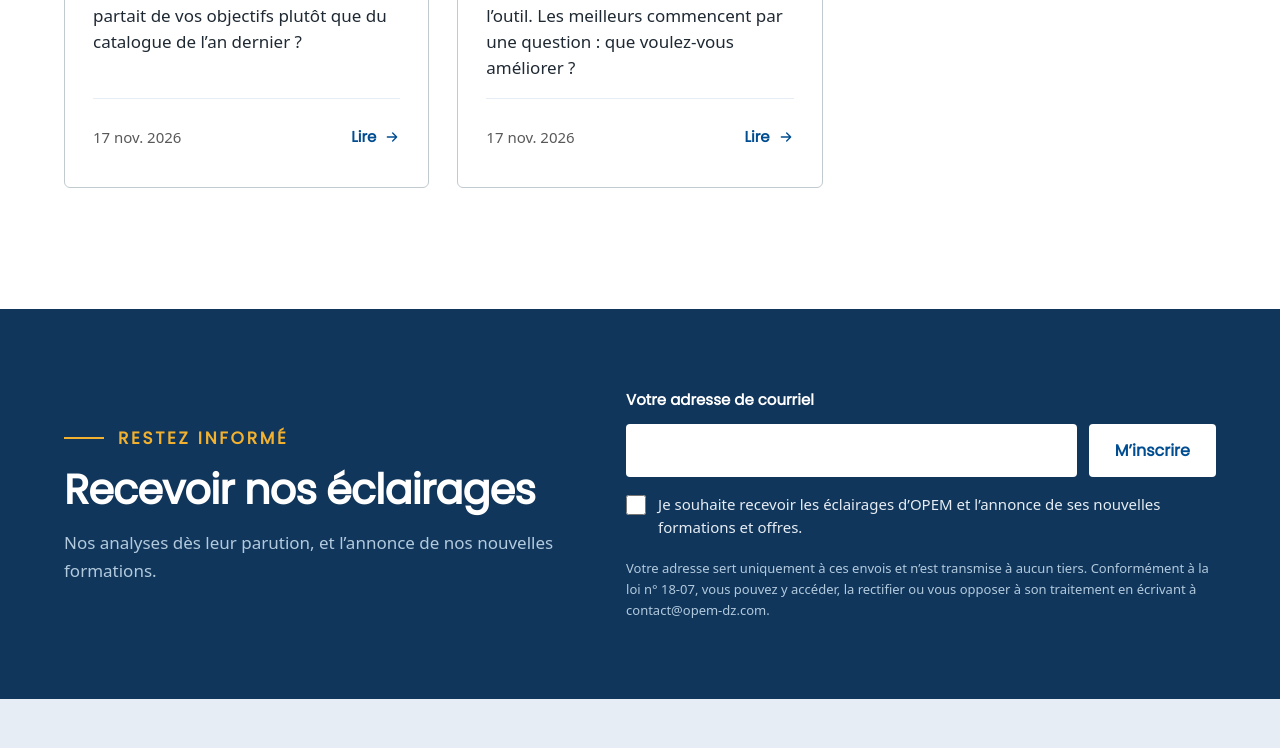
Test: Page « Éclairages » › inscription : accord obligatoire, puis envoi à la liste de diffusion
The image size is (1280, 748).
(page scrolled)
Type "lecteur@exemple.dz" into the field labelled "Votre adresse de courriel".
click(851, 451); type("lecteur@exemple.dz")  # box [626, 424, 1077, 477]
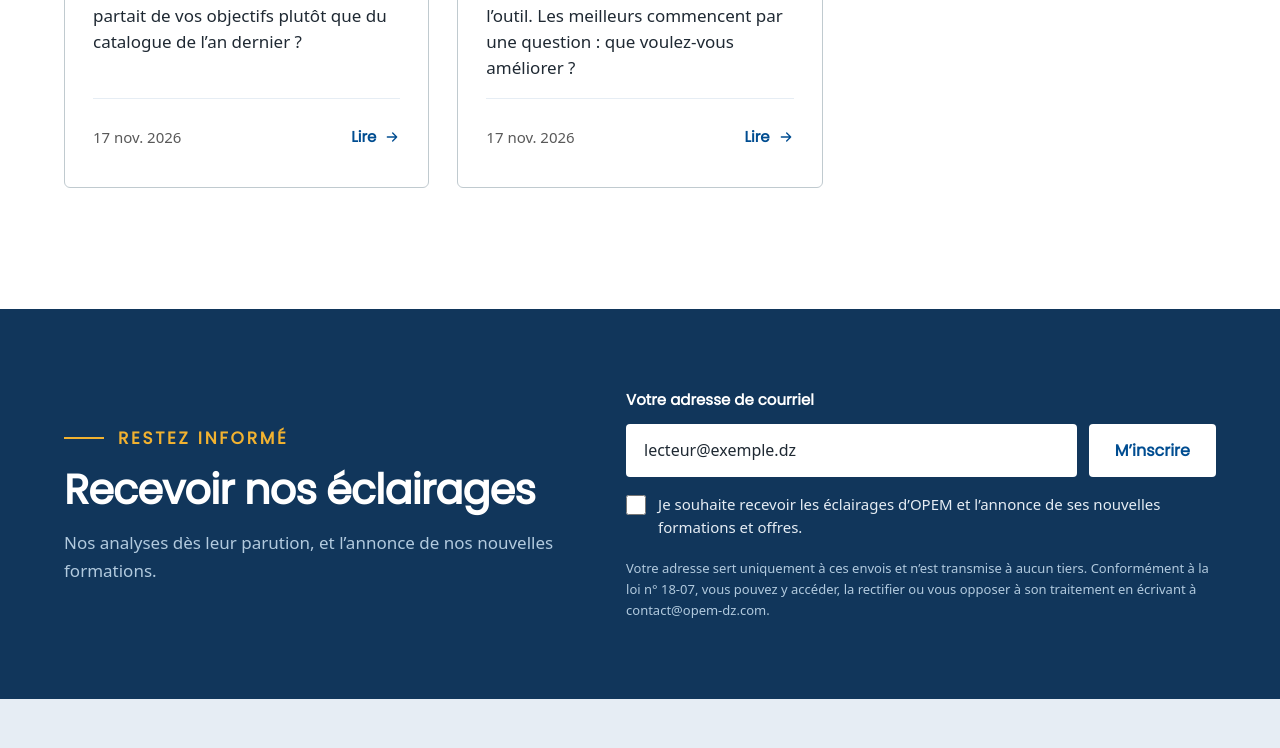
Click the button "M’inscrire".
click(1152, 451)  # box [1089, 424, 1216, 477]
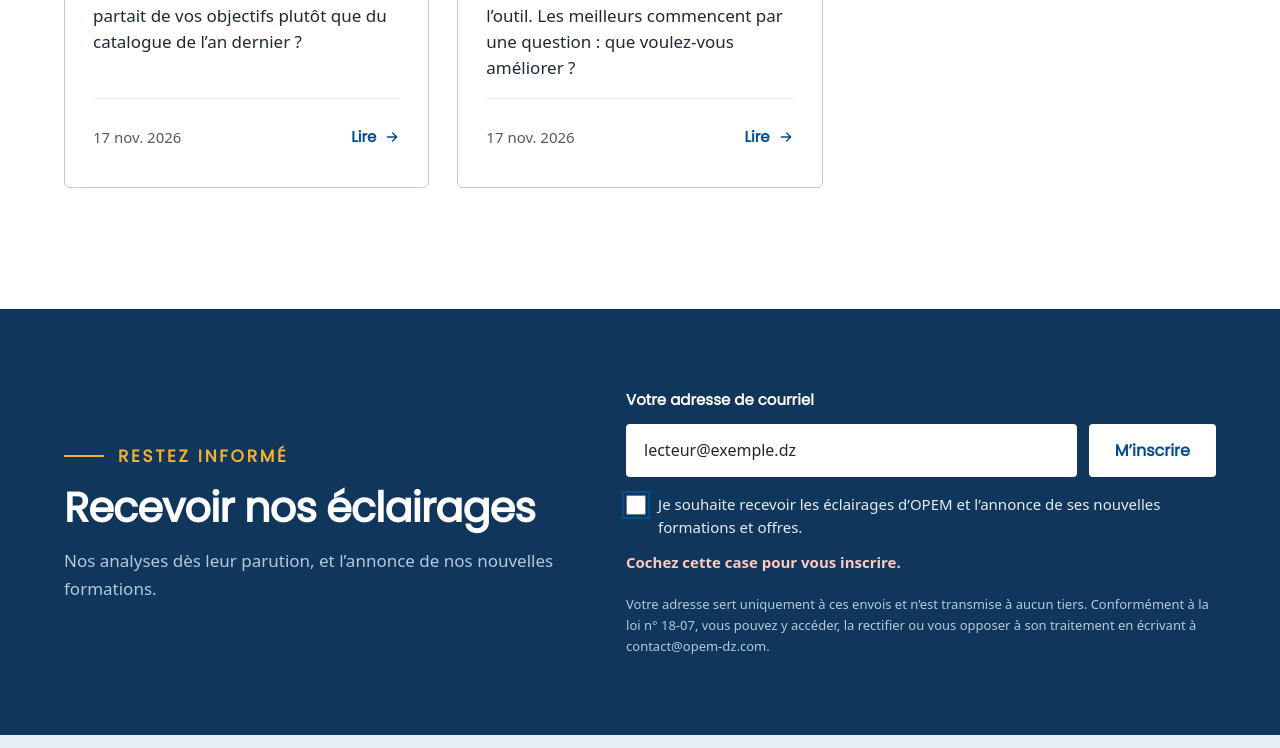
Result: the text "Cochez cette case pour vous inscrire." is shown at [626, 552, 901, 572]
Click the checkbox labelled "Je souhaite recevoir les éclairages d’OPEM".
click(636, 505)  # box [626, 495, 646, 515]
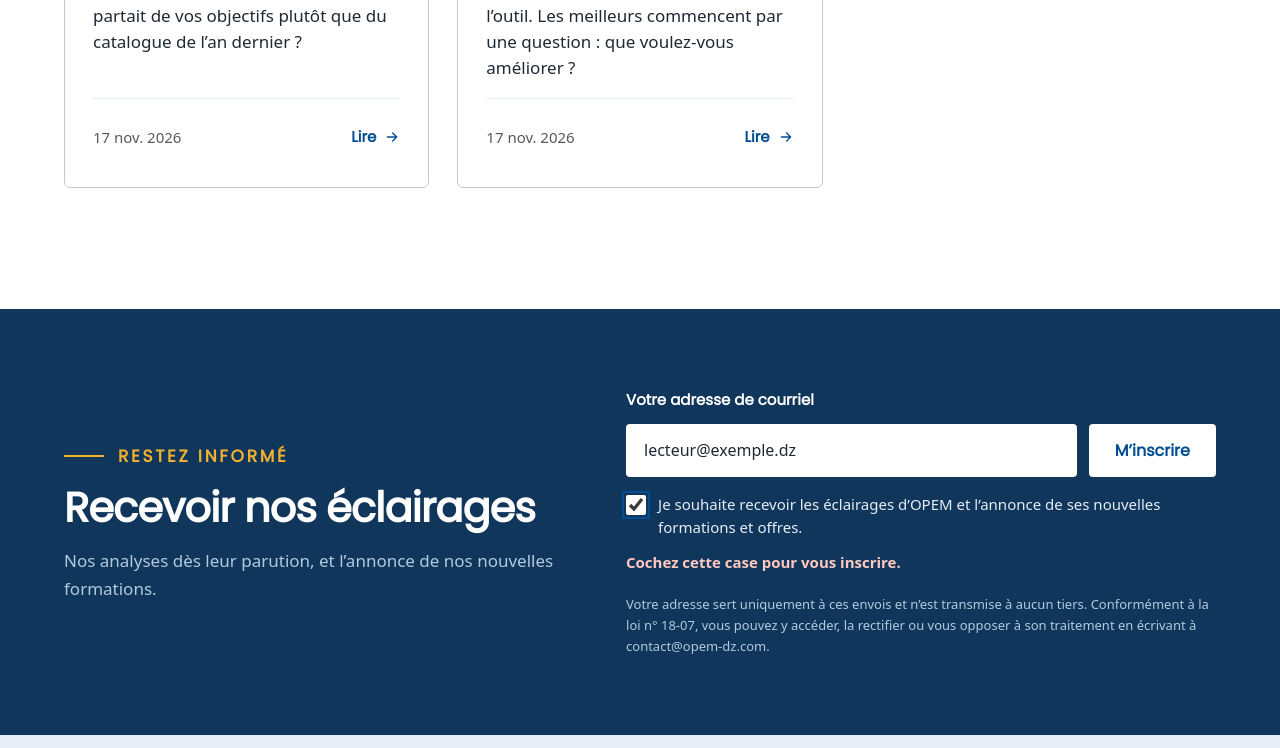
Click the button "M’inscrire".
click(1152, 451)  # box [1089, 424, 1216, 477]
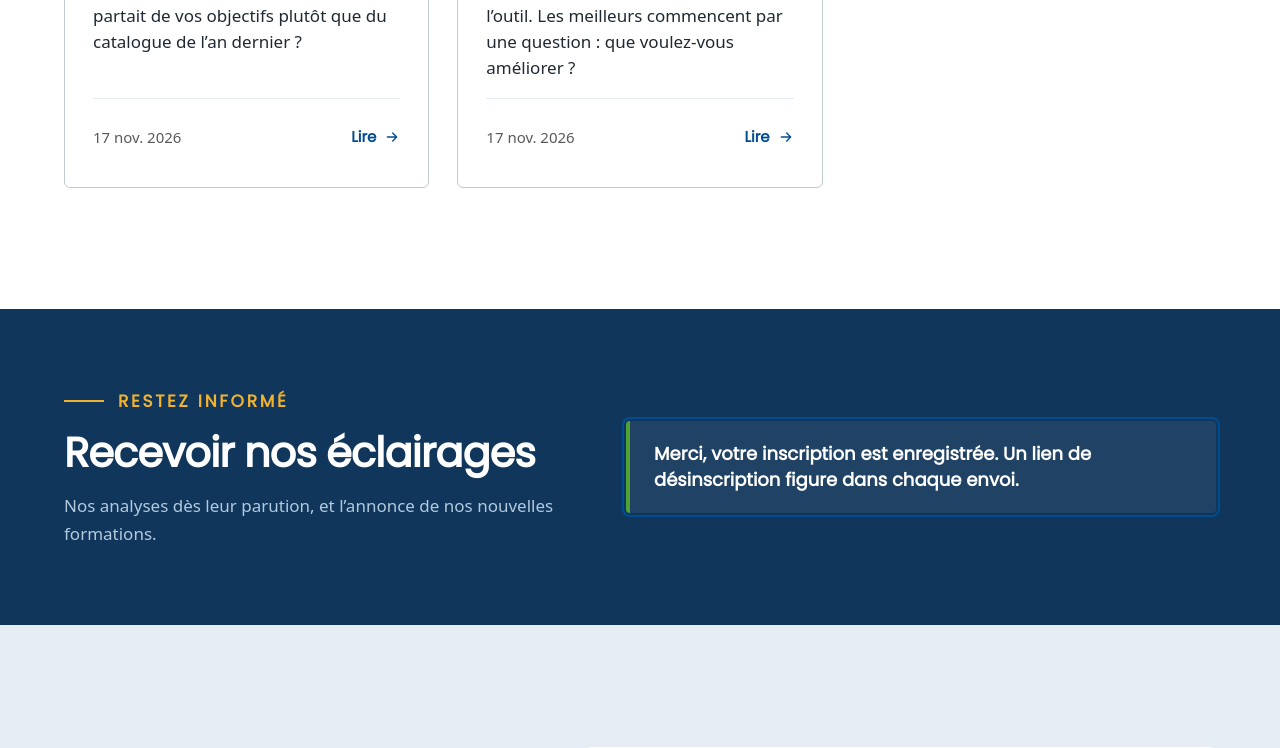
Result: the text "Merci, votre inscription est enregistrée" is shown at [654, 441, 1091, 492]
